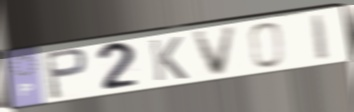0: (246, 20, 289, 71)
2: (93, 39, 146, 95)
I: (309, 12, 332, 63)
K: (147, 35, 190, 84)
P: (42, 46, 91, 101)
V: (190, 24, 240, 79)
